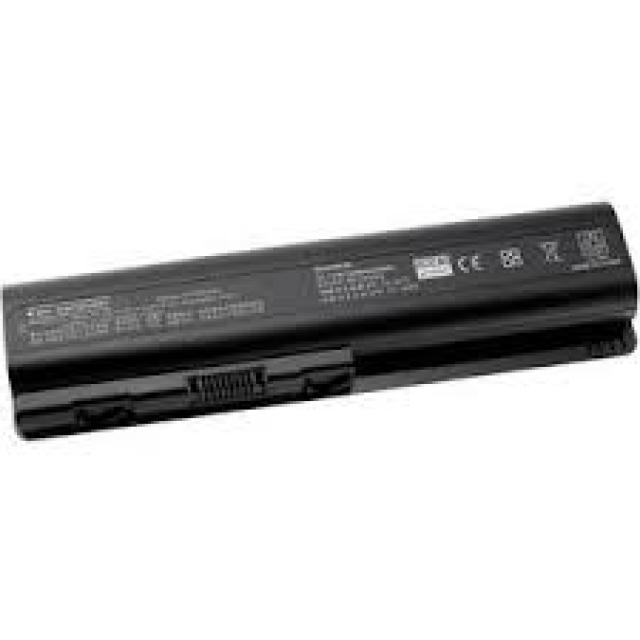battery: (5, 205, 640, 448)
